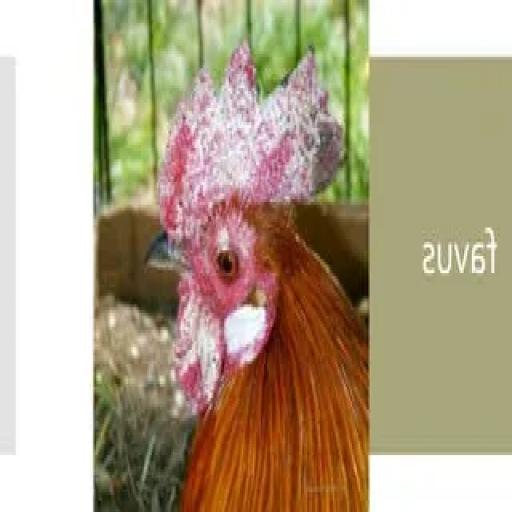disease: (150, 31, 351, 204), (175, 267, 224, 416), (159, 210, 235, 248)
